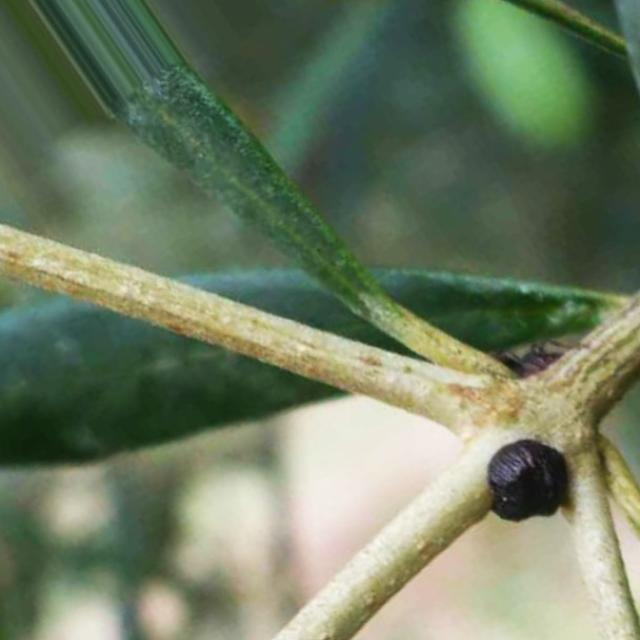BlackScale: (488, 438, 566, 522)
